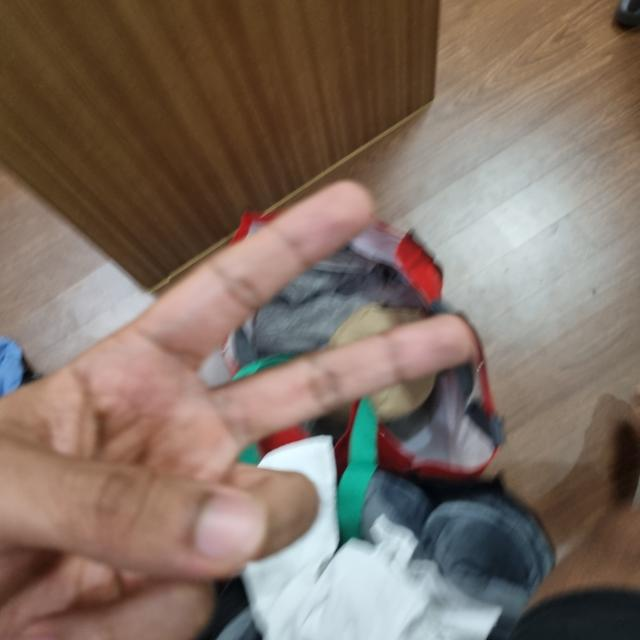Scissors: (0, 185, 473, 640)
